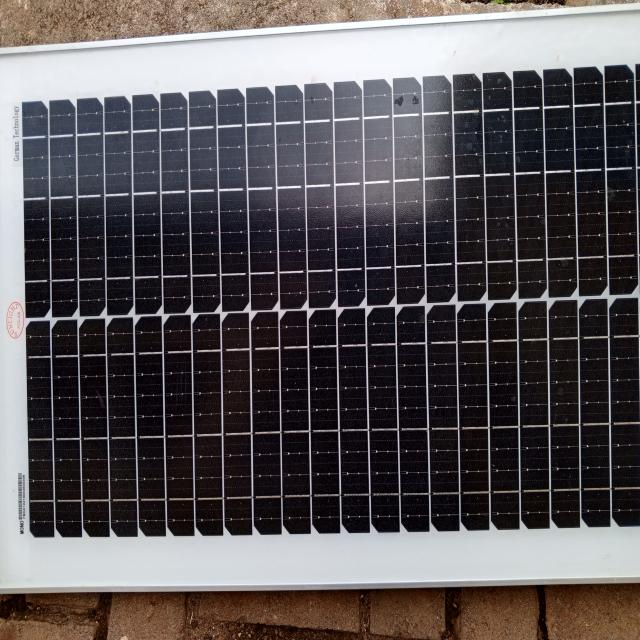Clean: (6, 63, 640, 553)
